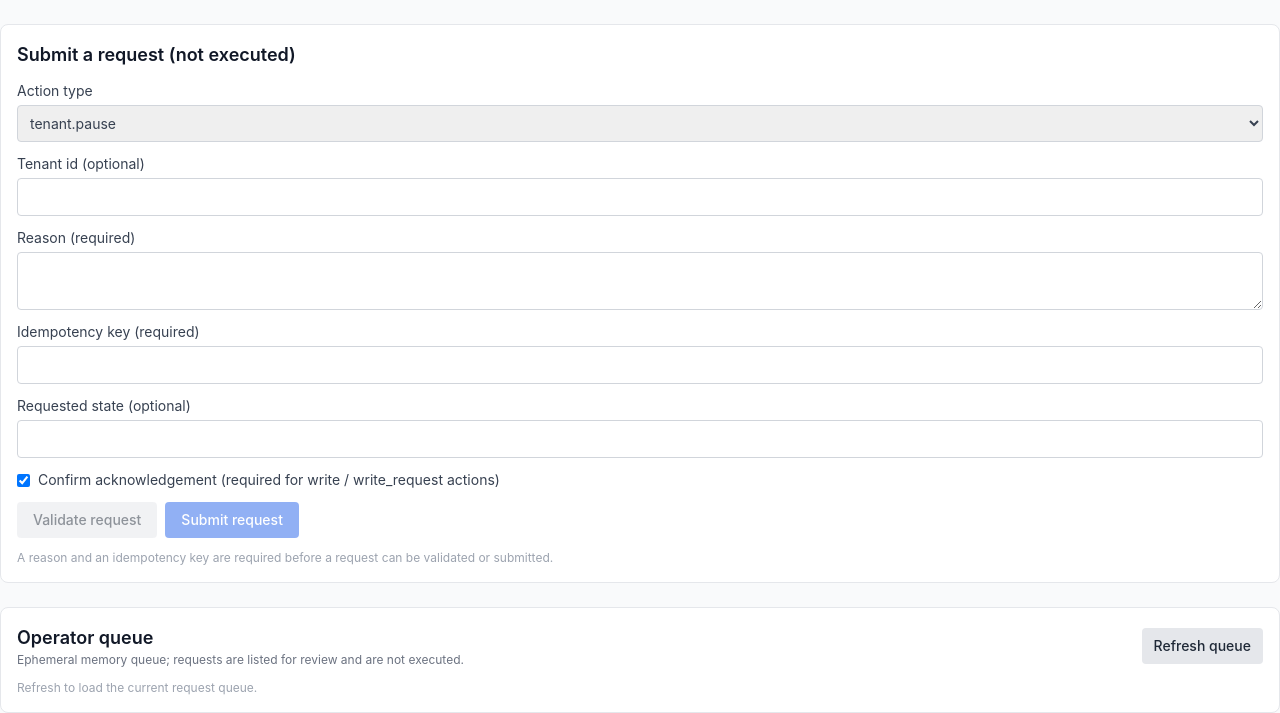
renders the in-memory operator queue after refresh
(page scrolled)
Click the button with test id "ca-refresh-queue-btn" at (1202, 646), box [1142,628,1263,664]
(page scrolled)
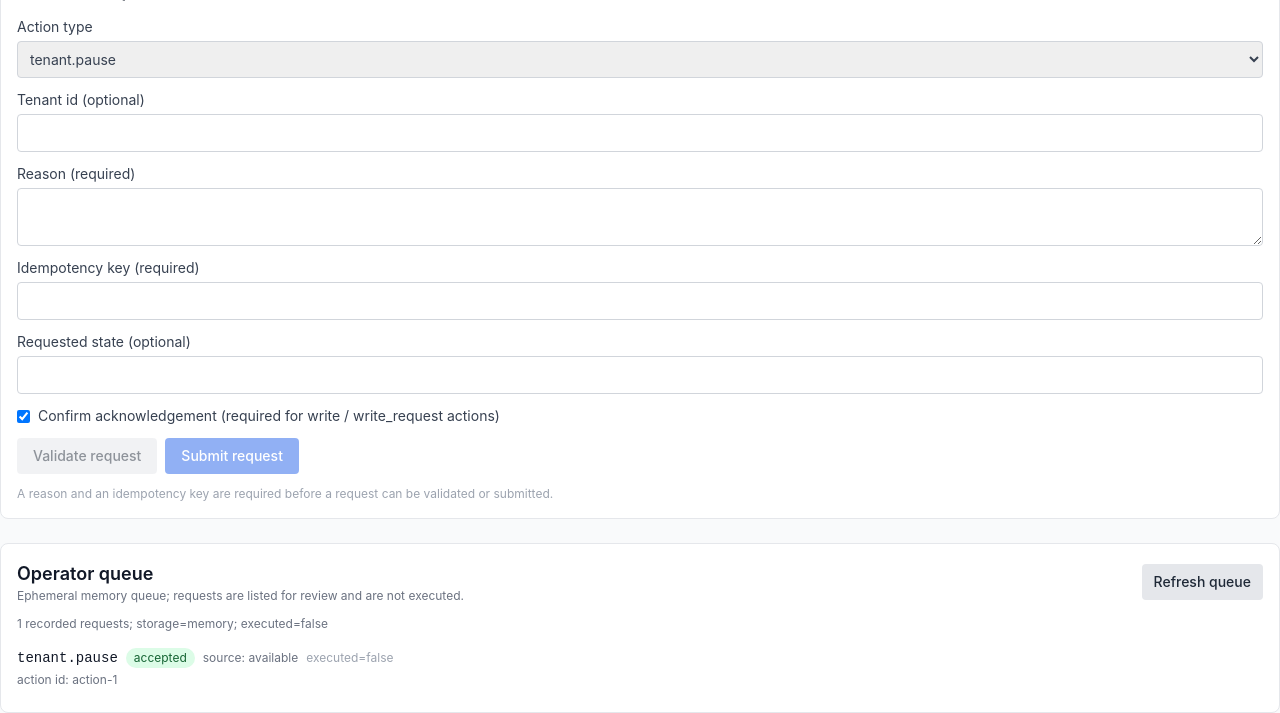
Now the text with test id "ca-queue-summary" shows "1 recorded requests", box [17,616,328,631]
Now the list item with test id "ca-queue-item" shows "tenant.pause", box [17,650,118,666]
Now the list item with test id "ca-queue-item" shows "executed=false", box [17,648,394,687]
